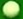white: (0, 0, 23, 19)
